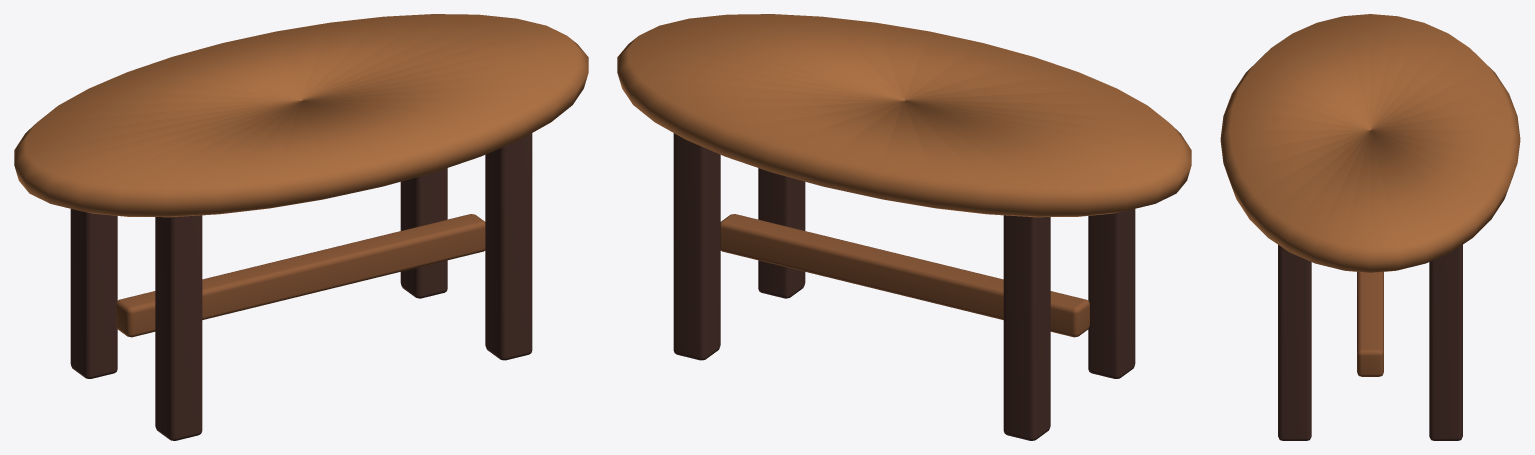
The model's file is living-coffee-table.glb.
The picture shows the model from 3 angles, left to right: view 1: azimuth 30°, elevation 25°; view 2: azimuth 150°, elevation 25°; view 3: azimuth 270°, elevation 25°; orthographic projection. The views are drawn at different scales.
Visible parts, largest first — view 1: living_coffee_table_placement_Mesh; view 2: living_coffee_table_placement_Mesh; view 3: living_coffee_table_placement_Mesh.
Part boxes in pixels (x1,y1,x2,y2): living_coffee_table_placement_Mesh: (14, 14, 588, 440); living_coffee_table_placement_Mesh: (617, 14, 1191, 440); living_coffee_table_placement_Mesh: (1220, 14, 1520, 440).
Bounding box in the file's own units: 0.95 × 0.43 × 0.5.
